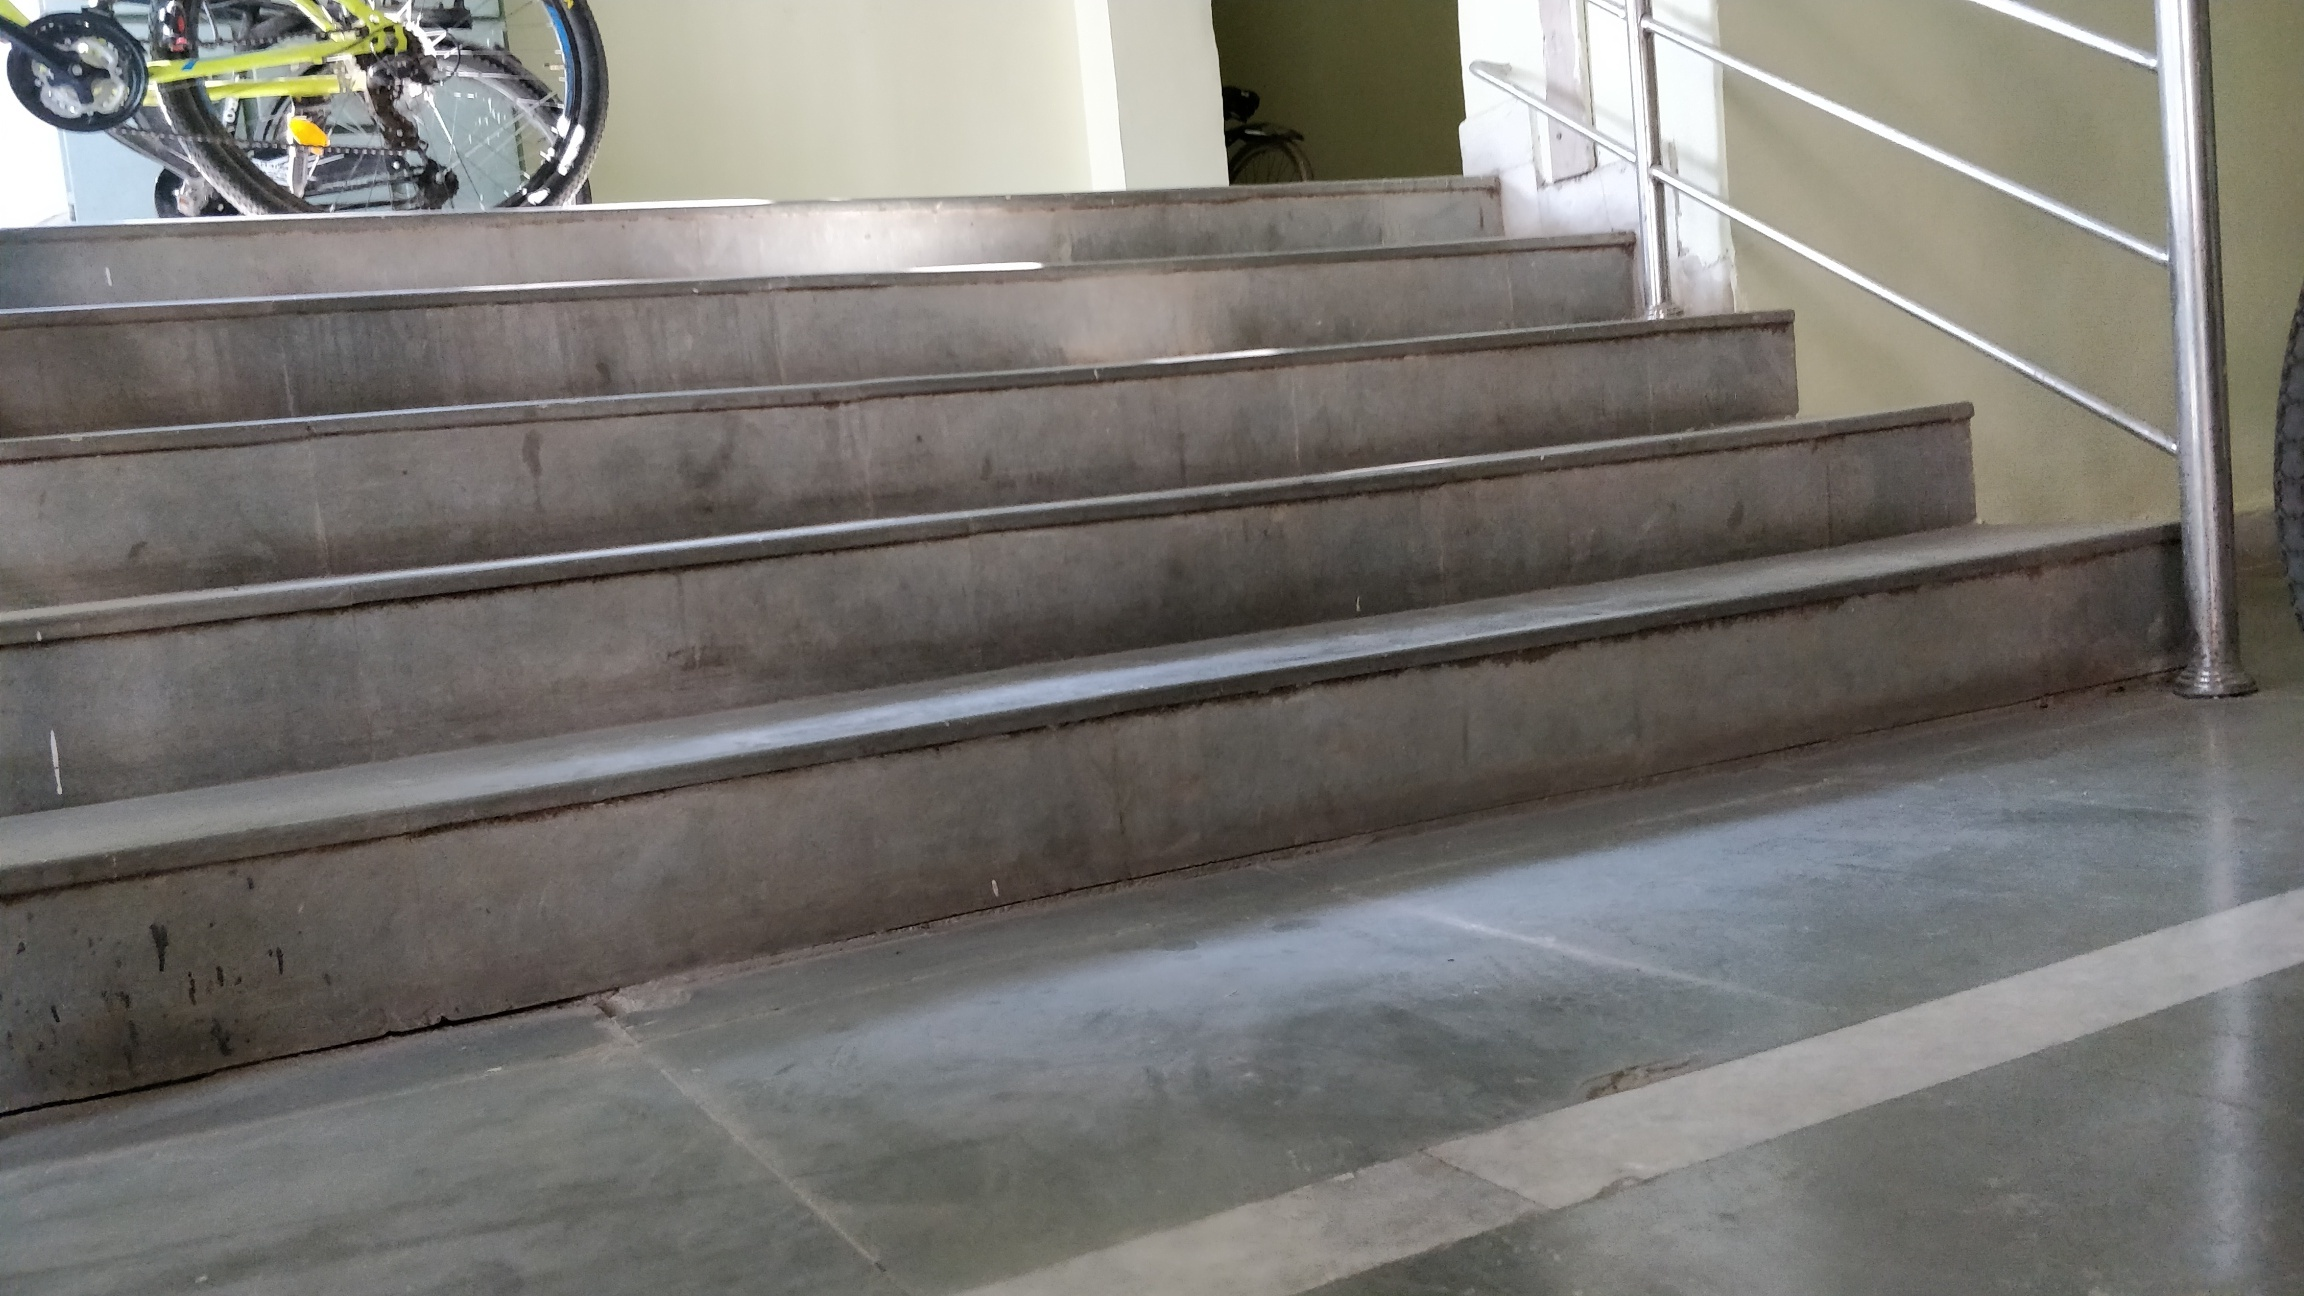stairs_up: (35, 233, 1700, 886)
